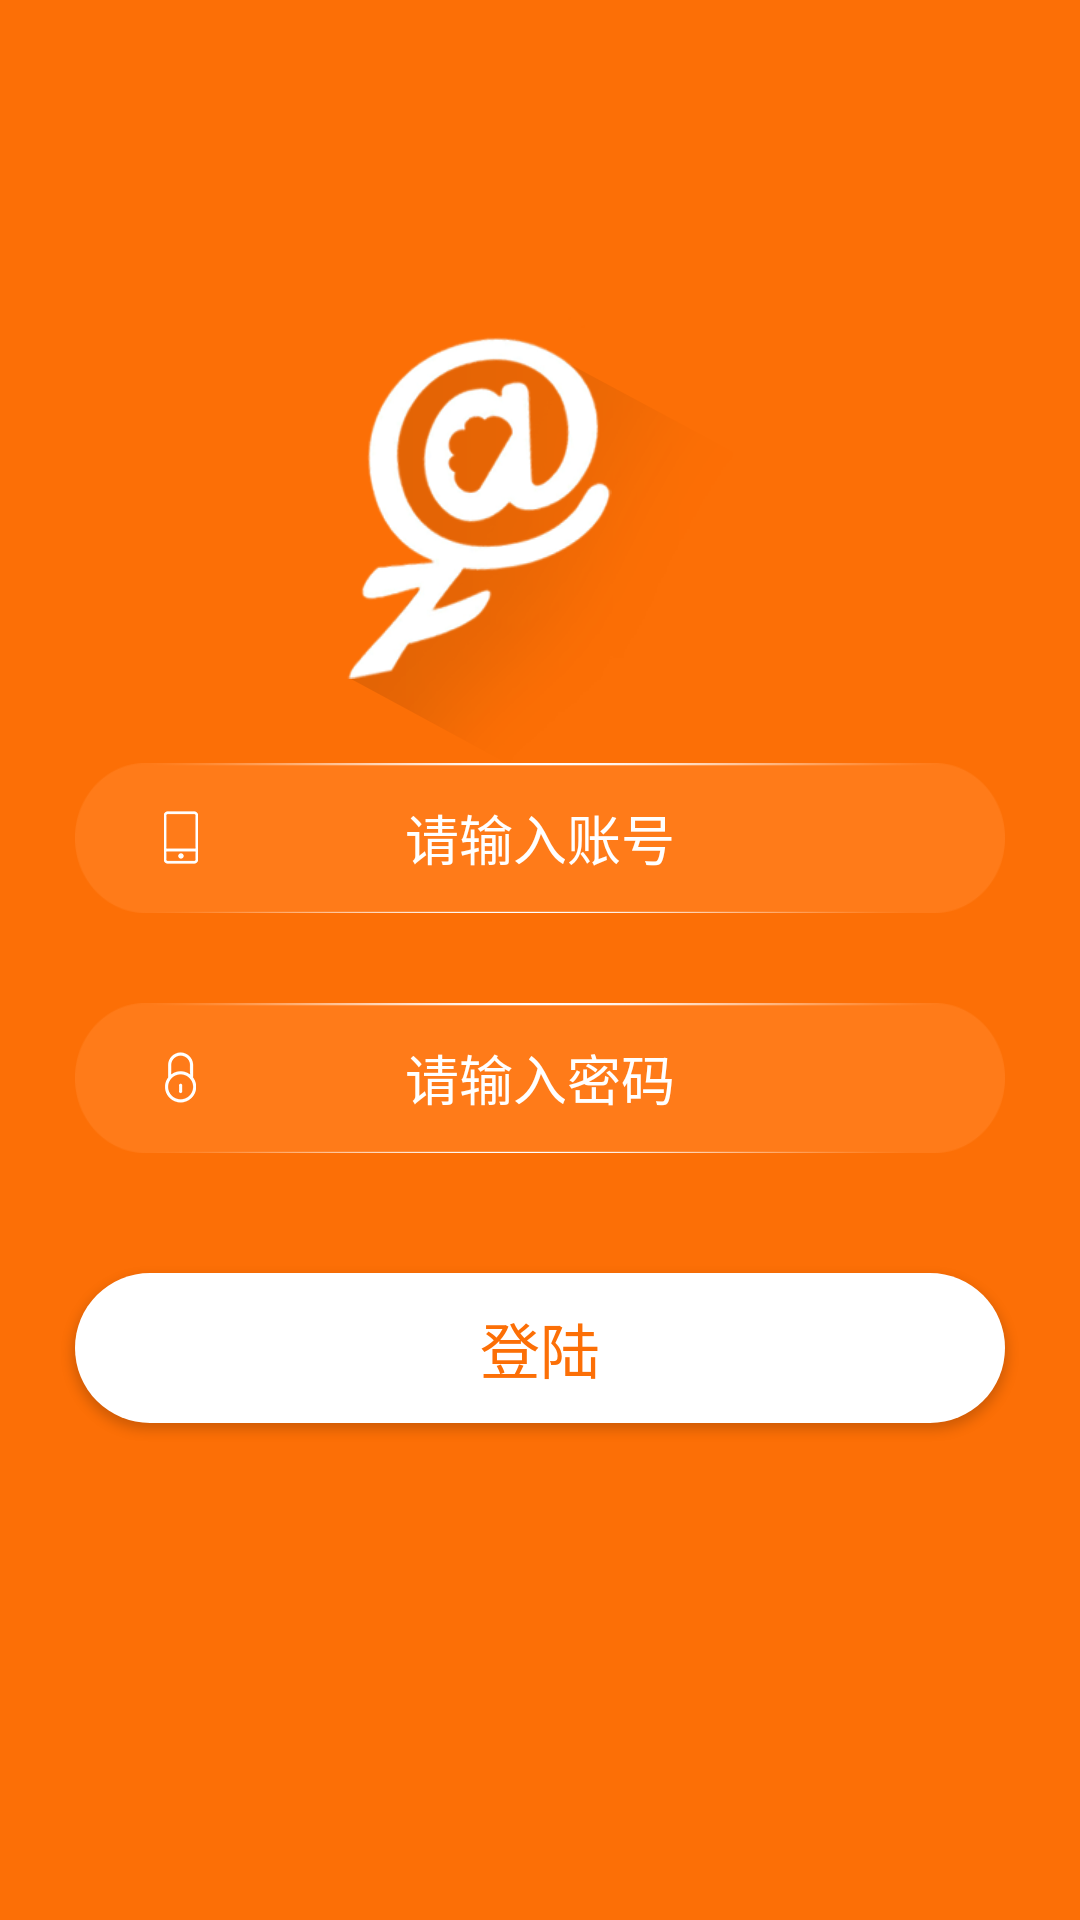

Icon bounding boxes for this 1080×1920 phone screenshot, format region(x1, y1, x2, y2):
pass: region(165, 1052, 196, 1103)
phone: region(164, 811, 198, 864)
